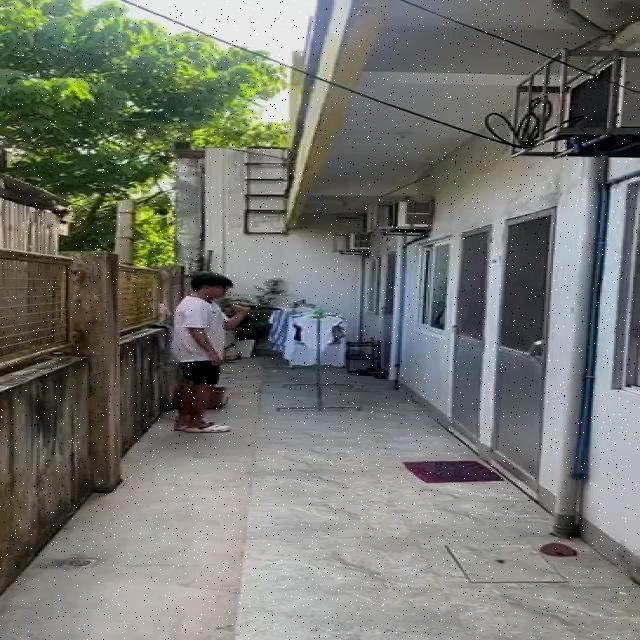knife: (234, 300, 282, 312)
non-violence: (167, 274, 281, 436)
